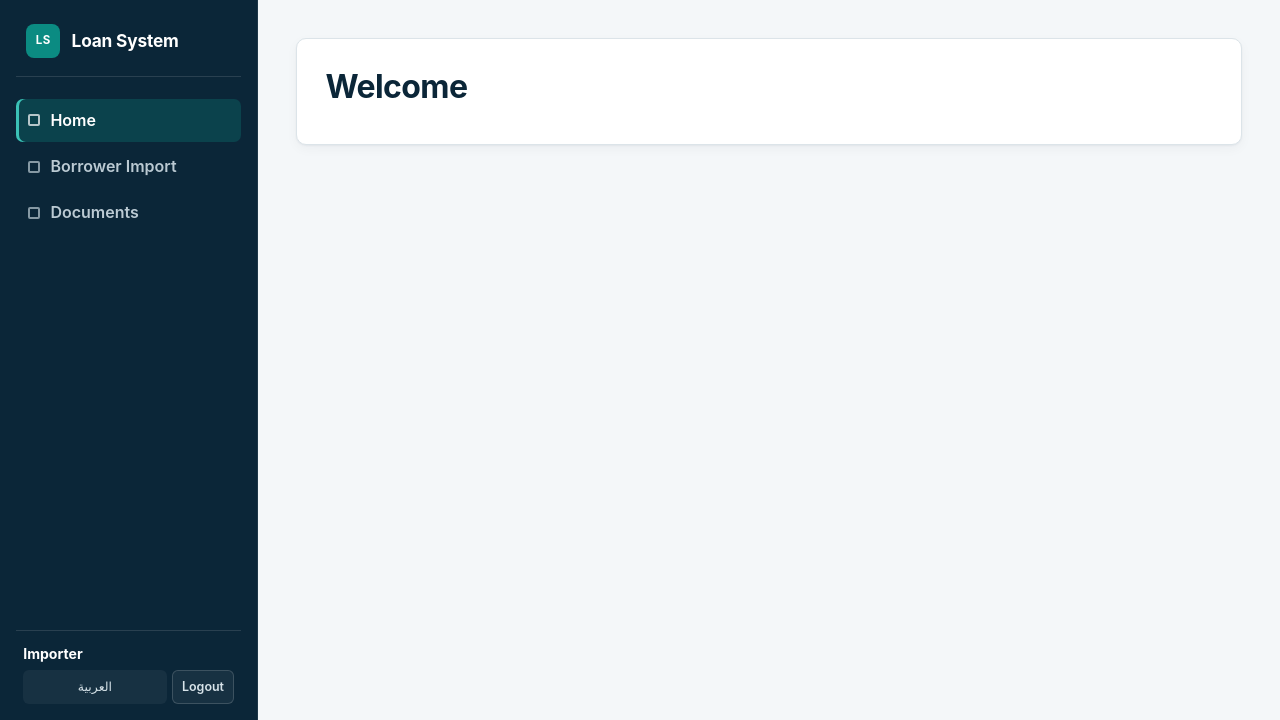
Test: shows borrower import navigation only with effective import permission
Click the button "Borrower Import" at point(128, 167), box [16,145,241,188]
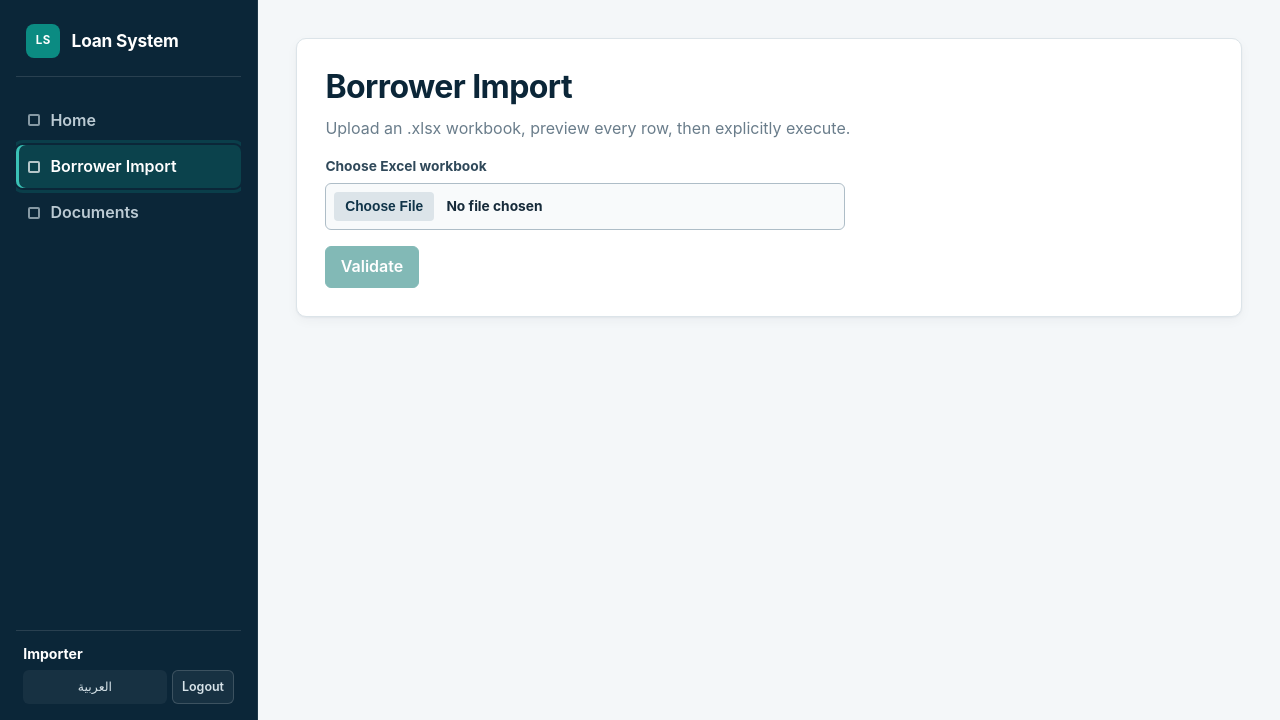
expect the heading "Borrower Import" is shown: met, box [325,67,572,106]
